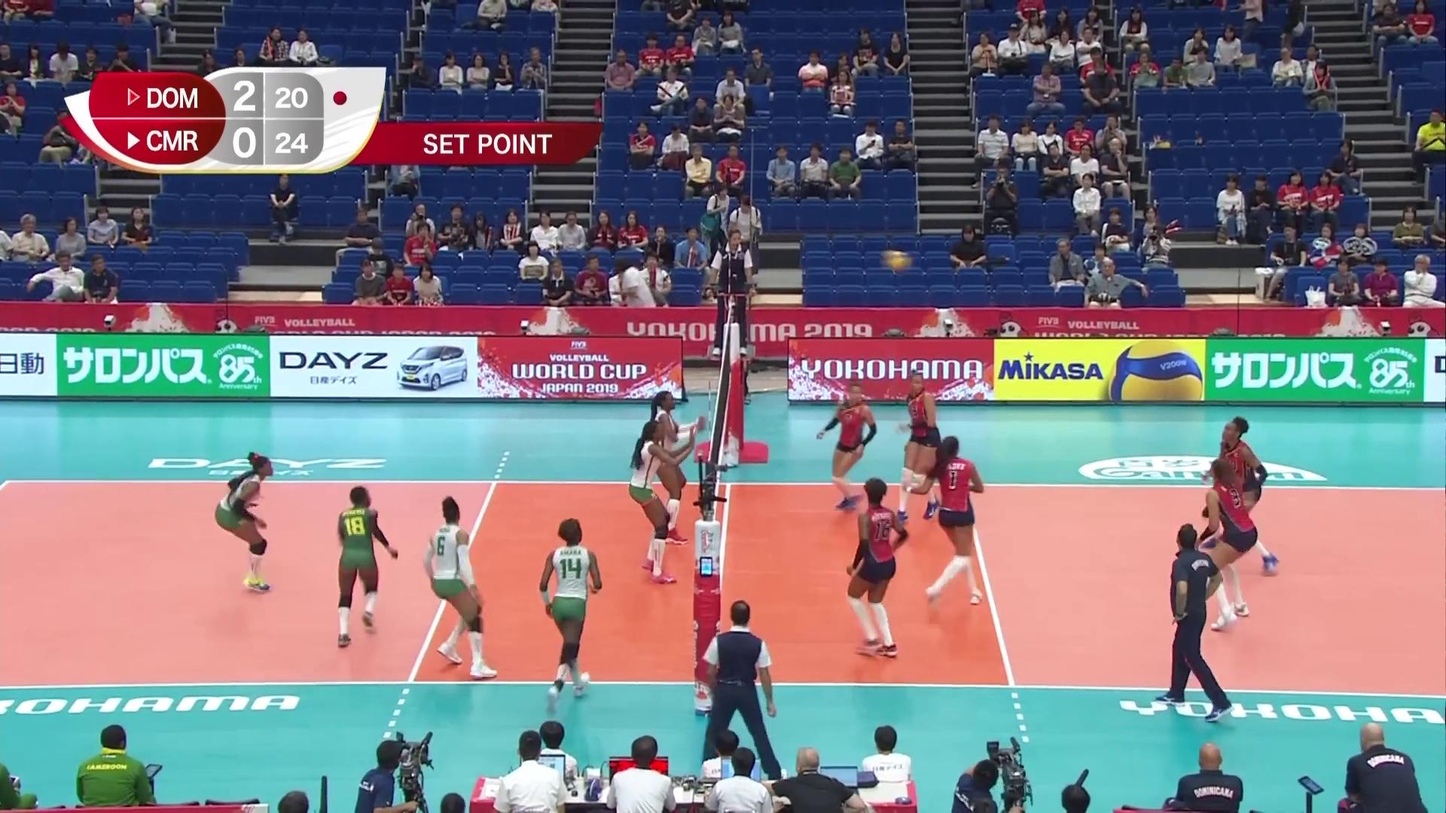player: (424, 499, 496, 683), (909, 436, 987, 605), (1202, 417, 1281, 574), (844, 480, 910, 659), (540, 521, 602, 703), (334, 487, 402, 649), (1200, 460, 1261, 631), (644, 389, 706, 547), (630, 420, 688, 586), (212, 455, 275, 593), (818, 382, 878, 514), (895, 373, 944, 526)
refree: (702, 599, 787, 784), (710, 230, 755, 356)
